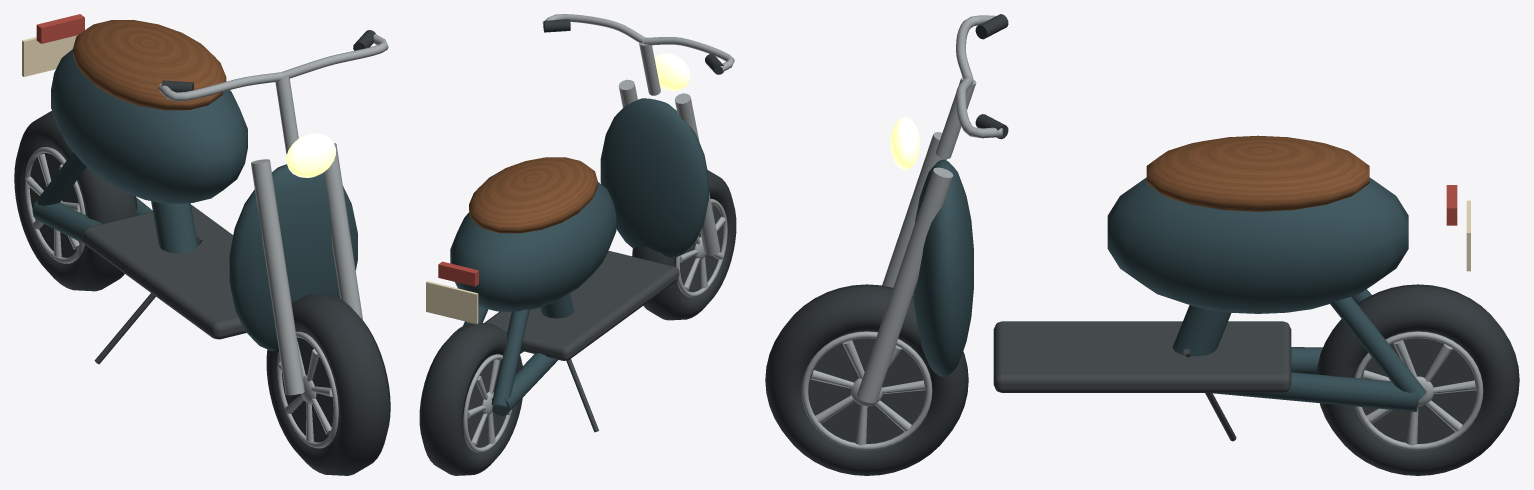
File: veh_moto_vesper-d04e7b5eafe9.glb
The picture shows the model from 3 angles, left to right: view 1: azimuth 30°, elevation 25°; view 2: azimuth 150°, elevation 25°; view 3: azimuth 270°, elevation 25°; orthographic projection. The views are drawn at different scales.
Parts seen in each view (by area): view 1: surface_#385158, surface_rubber (×3), surface_steel (×3), surface_graphite (×3), surface_walnut, surface_lit, surface_ivory, surface_red; view 2: surface_#385158, surface_rubber (×3), surface_graphite (×3), surface_walnut, surface_steel (×3), surface_ivory, surface_lit, surface_red; view 3: surface_#385158, surface_rubber (×3), surface_graphite (×3), surface_steel (×3), surface_walnut, surface_lit.
Boxes of the visible parts, left/top/right/bottom form: surface_#385158: left=32, top=49, right=357, bottom=351; surface_rubber (×3): left=14, top=30, right=390, bottom=475; surface_steel (×3): left=25, top=34, right=388, bottom=448; surface_graphite (×3): left=29, top=148, right=334, bottom=442; surface_walnut: left=73, top=20, right=226, bottom=110; surface_lit: left=286, top=133, right=335, bottom=177; surface_ivory: left=22, top=35, right=77, bottom=76; surface_red: left=36, top=14, right=84, bottom=43; surface_#385158: left=450, top=98, right=708, bottom=415; surface_rubber (×3): left=419, top=19, right=736, bottom=475; surface_graphite (×3): left=466, top=204, right=723, bottom=447; surface_walnut: left=469, top=157, right=597, bottom=233; surface_steel (×3): left=463, top=14, right=734, bottom=452; surface_ivory: left=426, top=281, right=478, bottom=324; surface_lit: left=654, top=53, right=690, bottom=90; surface_red: left=438, top=261, right=478, bottom=286; surface_#385158: left=913, top=159, right=1426, bottom=411; surface_rubber (×3): left=765, top=14, right=1519, bottom=475; surface_graphite (×3): left=808, top=321, right=1476, bottom=443; surface_steel (×3): left=801, top=15, right=1483, bottom=450; surface_walnut: left=1146, top=135, right=1369, bottom=211; surface_lit: left=890, top=117, right=919, bottom=169.
Size of the model in its own units: 0.6567 by 1.06 by 1.78.
Materials: 8 (1 with a texture image).
